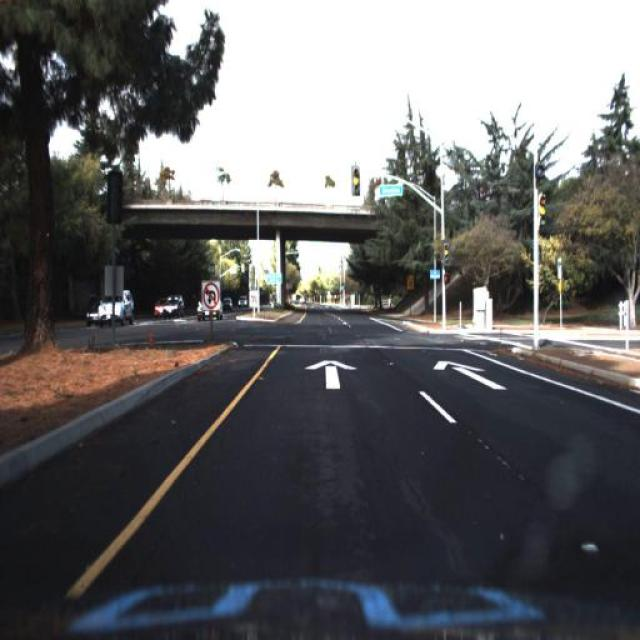car: (95, 284, 141, 324), (98, 280, 134, 330), (162, 293, 188, 322), (198, 296, 218, 316), (164, 295, 182, 315), (83, 306, 99, 326), (222, 292, 234, 318), (235, 287, 249, 307)
trafficLight-YellowLeft: (536, 192, 549, 230), (439, 238, 452, 268), (352, 163, 362, 194), (540, 200, 548, 224)
